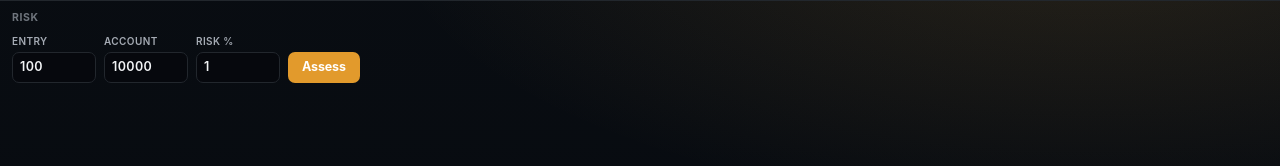
Test: RiskBox › shows the no-valid-stop reason instead of a size
The width and height of the screenshot is (1280, 166).
Click the button "Assess" at (324, 67), box [288,52,360,83]
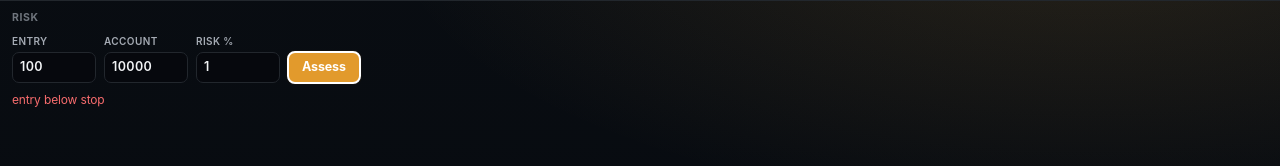
Result: the text "entry below stop" is shown at [12,92,104,106]
